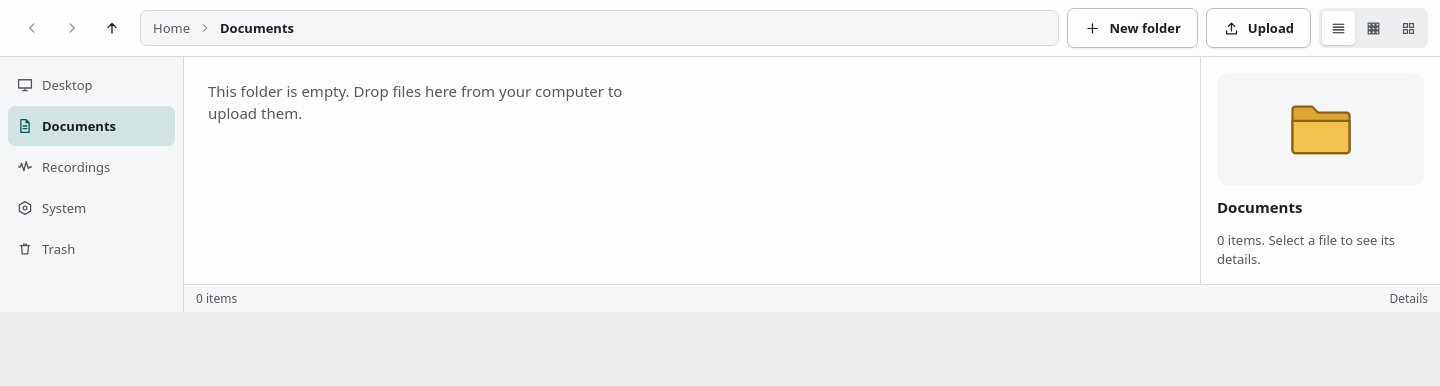
Scenario: Files › goes to the special folders from the sidebar
The width and height of the screenshot is (1440, 386).
Click the button "Trash".
click(92, 249)  # box [8, 229, 175, 269]
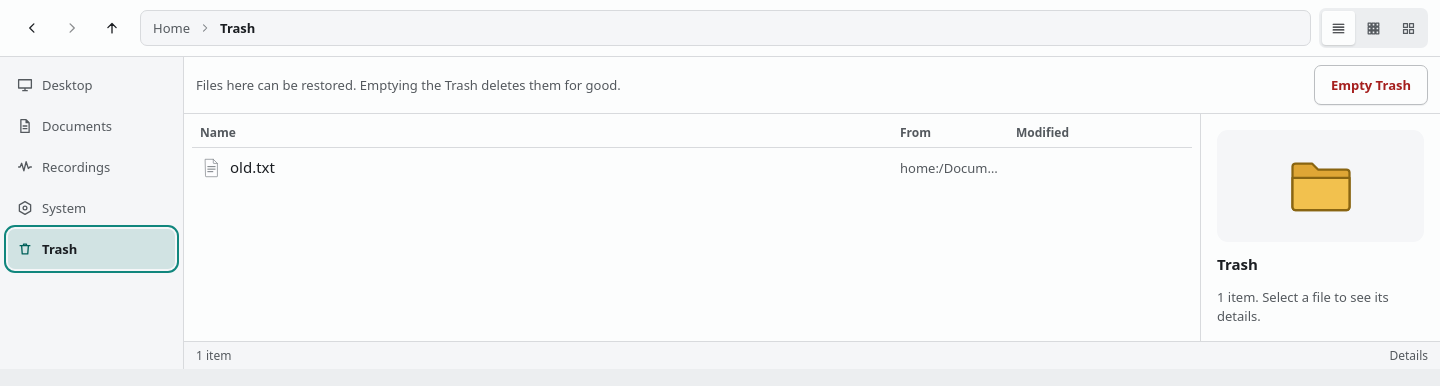
Expected: the text "home:/Documents/old.txt" is shown, [900, 159, 1004, 177]
